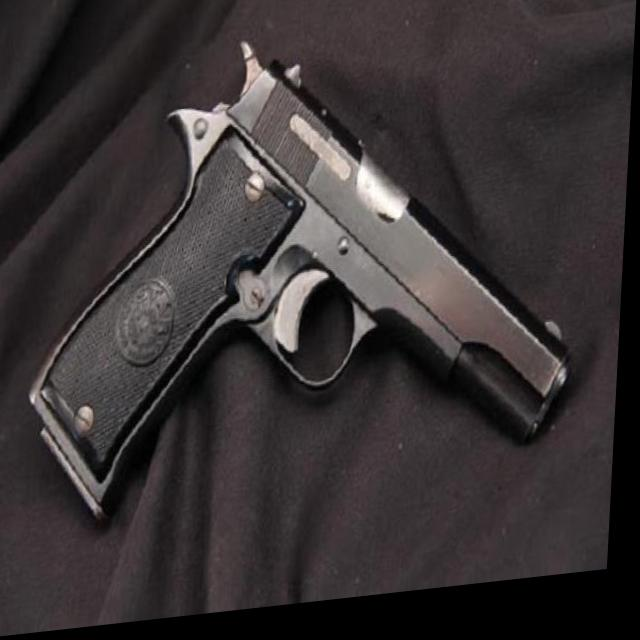handgun: (29, 11, 592, 537)
